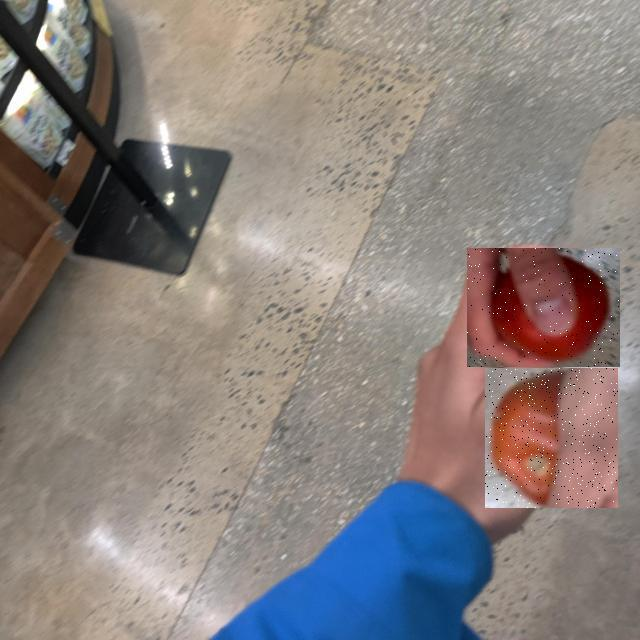tomato: (176, 254, 640, 640), (157, 184, 640, 550)
